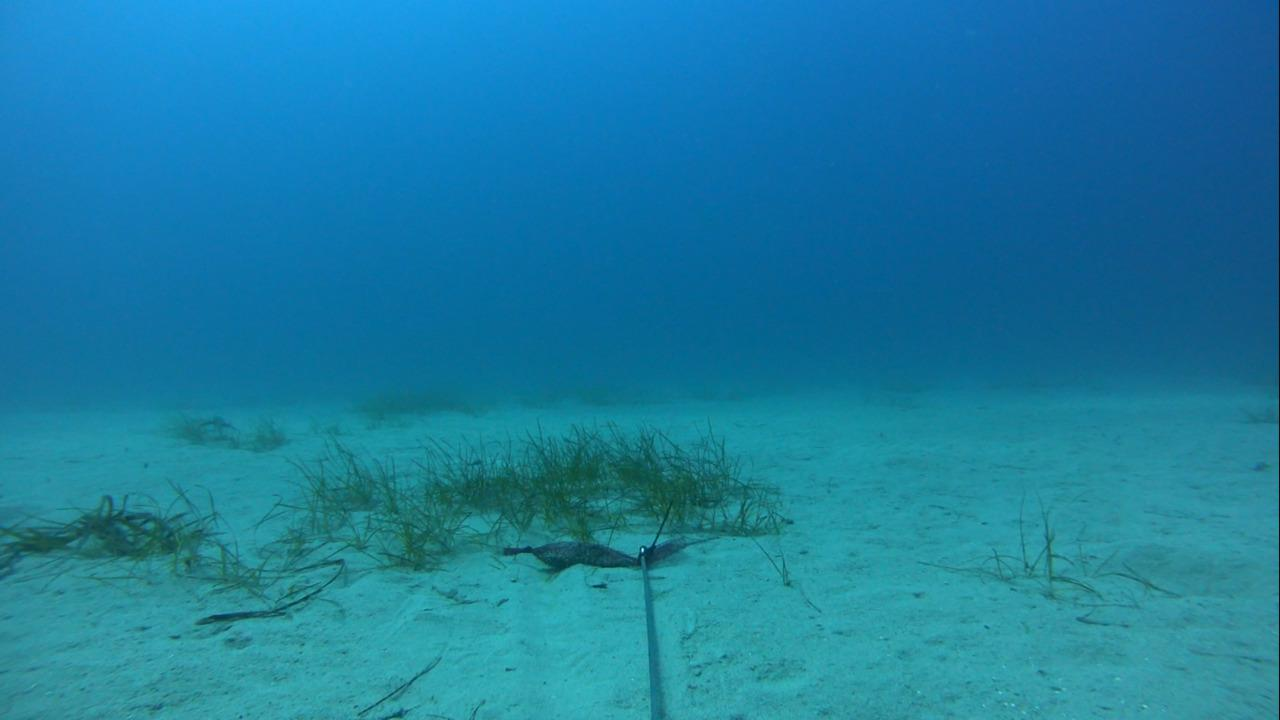dactylopterus: (186, 412, 240, 438)
